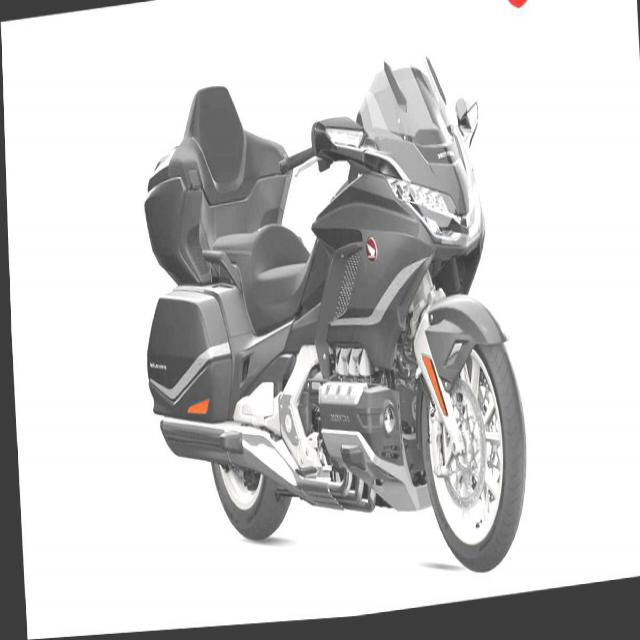Gold Wing: (131, 53, 529, 621)
